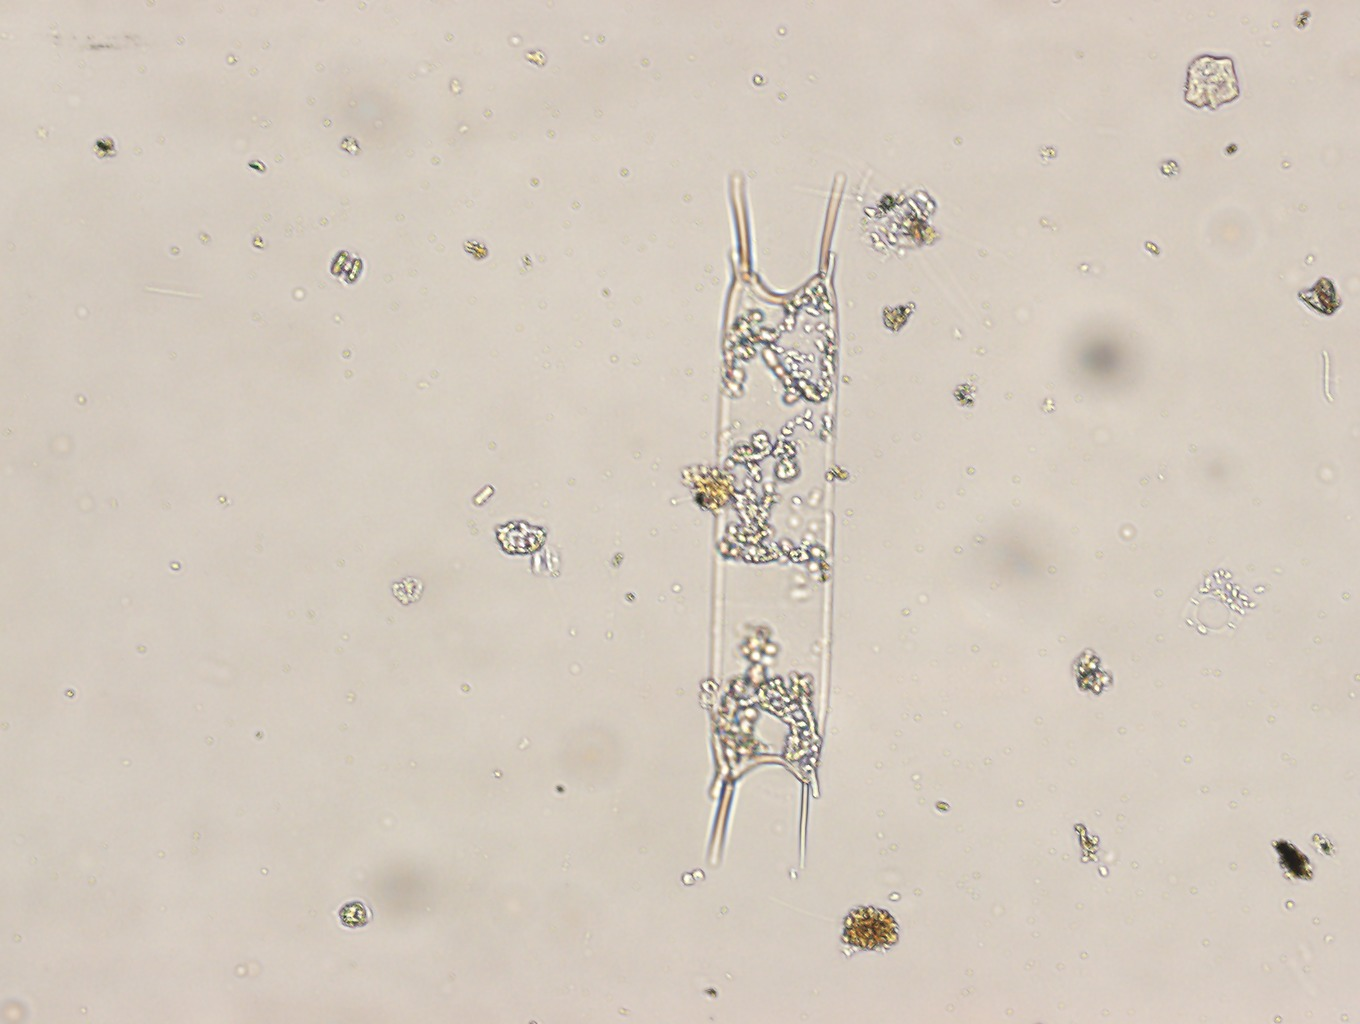biddulphia: (702, 168, 849, 868)
